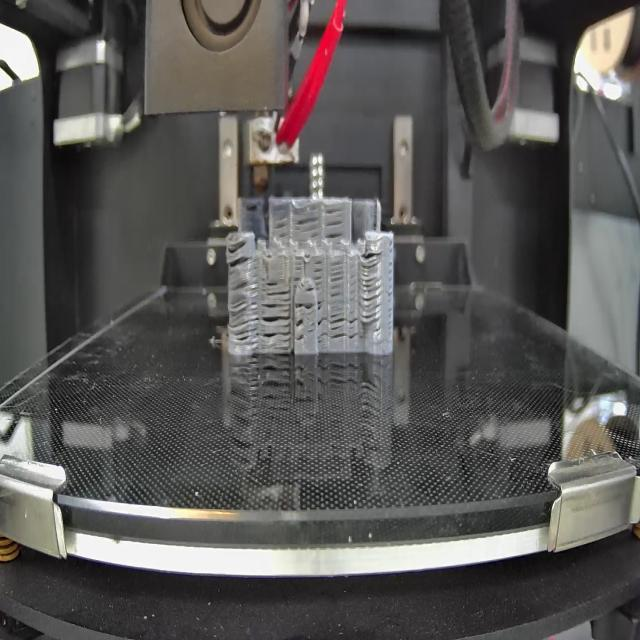cracks: (230, 282, 259, 344), (359, 252, 382, 323), (262, 303, 290, 349), (330, 309, 360, 341), (227, 239, 253, 267), (330, 258, 346, 300), (325, 207, 344, 238), (292, 213, 320, 233), (266, 278, 290, 297), (295, 300, 325, 313), (273, 216, 289, 240), (313, 258, 324, 287), (318, 318, 327, 344), (294, 253, 302, 282), (295, 318, 305, 341), (305, 284, 314, 296)
